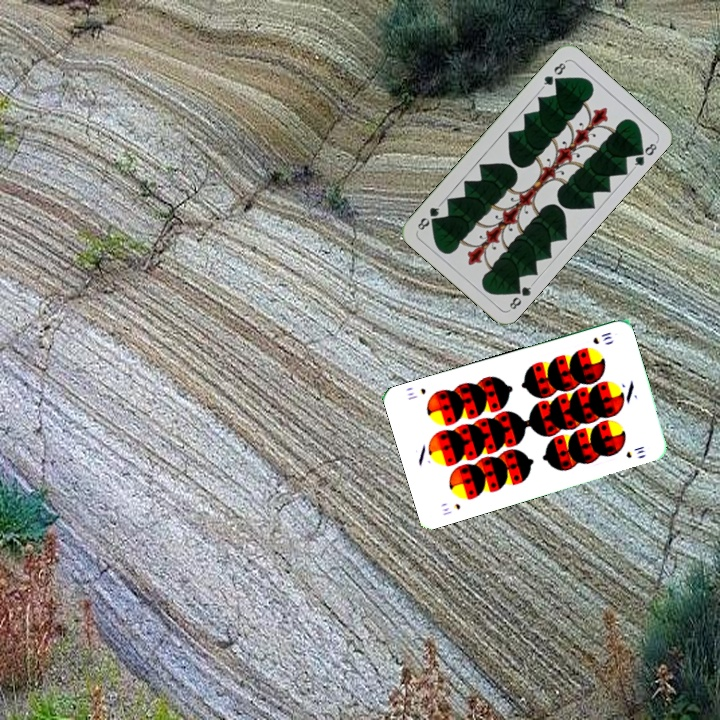G8: (538, 57, 569, 91), (505, 279, 536, 313)
S10: (589, 328, 614, 347), (438, 499, 463, 518)
